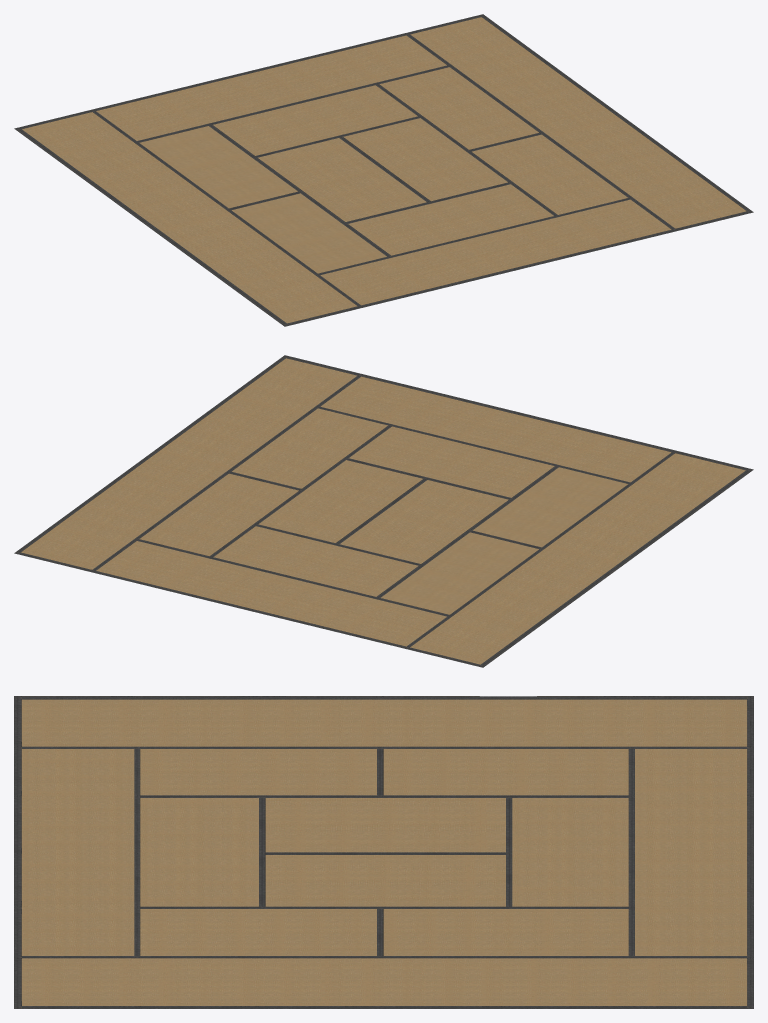
Rendered from Homeworld_Interior_Dq_Room_H_Floor_01_Vo.fbx.
3 renders of one model, top to bottom at view 1: azimuth 30°, elevation 25°; view 2: azimuth 150°, elevation 25°; view 3: azimuth 270°, elevation 25°, orthographic. The views are drawn at different scales.
Parts seen in each view (by area): view 1: Homeworld_Interior_Dq_Room_H_Floor_01_Vo; view 2: Homeworld_Interior_Dq_Room_H_Floor_01_Vo; view 3: Homeworld_Interior_Dq_Room_H_Floor_01_Vo.
Part boxes in pixels (x1,y1,x2,y2): Homeworld_Interior_Dq_Room_H_Floor_01_Vo: (14, 14, 753, 326); Homeworld_Interior_Dq_Room_H_Floor_01_Vo: (14, 355, 753, 667); Homeworld_Interior_Dq_Room_H_Floor_01_Vo: (14, 696, 753, 1008).
Size of the model in its own units: 10 by 5.79e-06 by 10.
